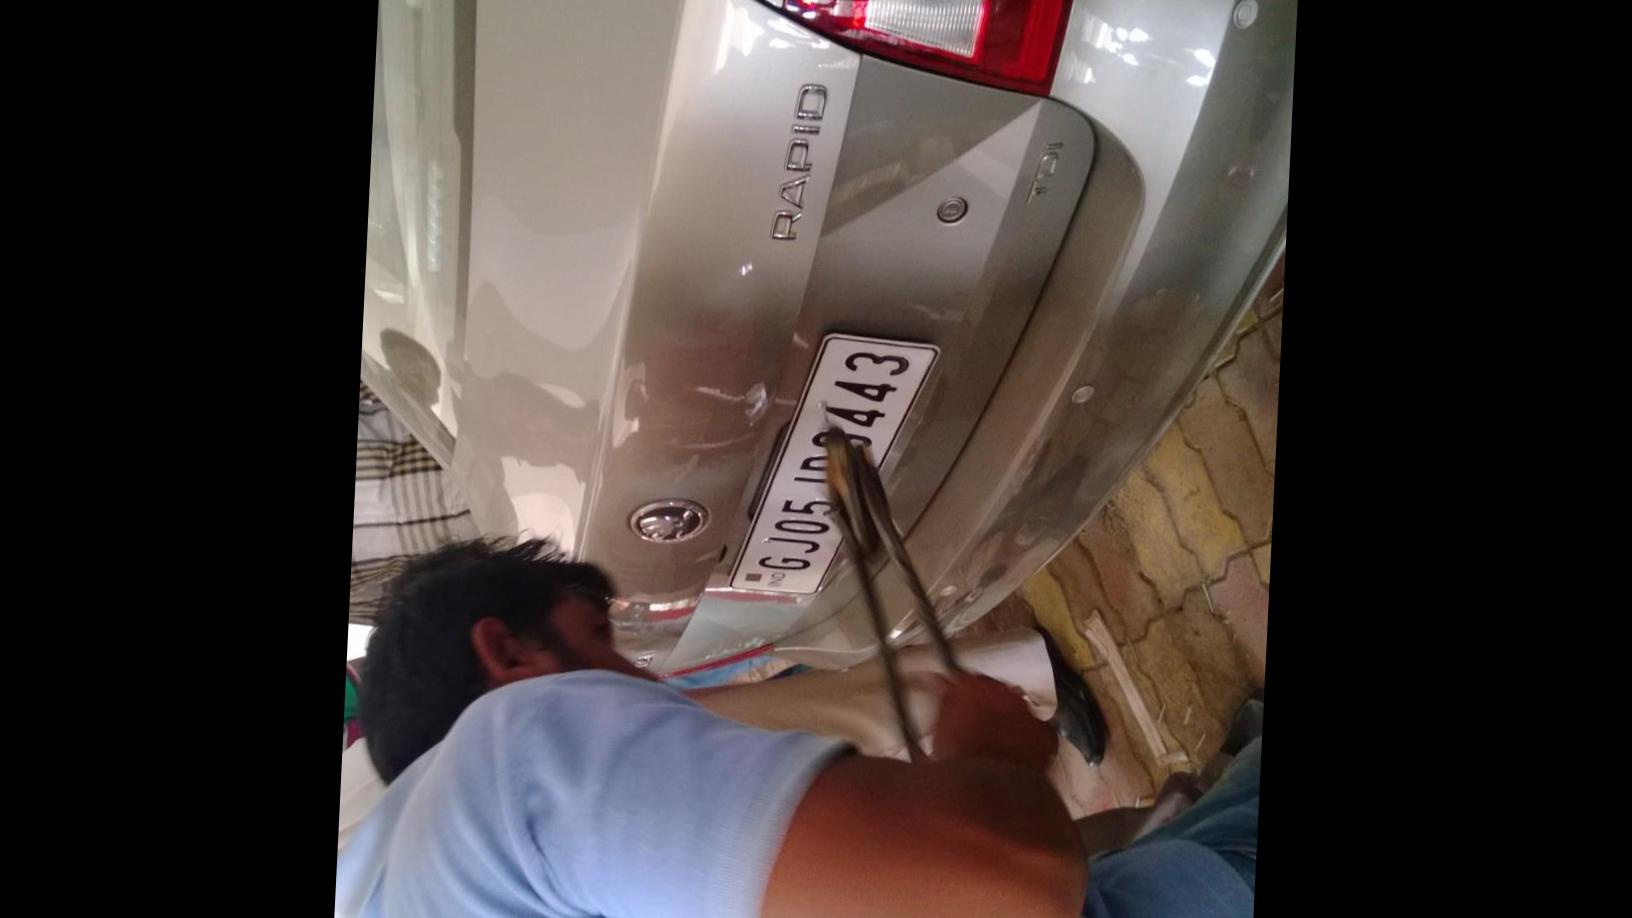plate: (714, 313, 935, 606)
